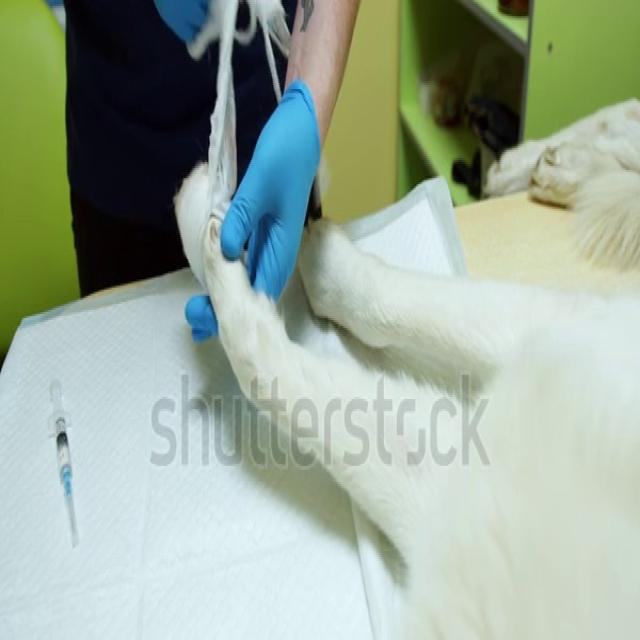injured-animals: (141, 5, 640, 640)
normal_animals: (168, 8, 638, 638)
